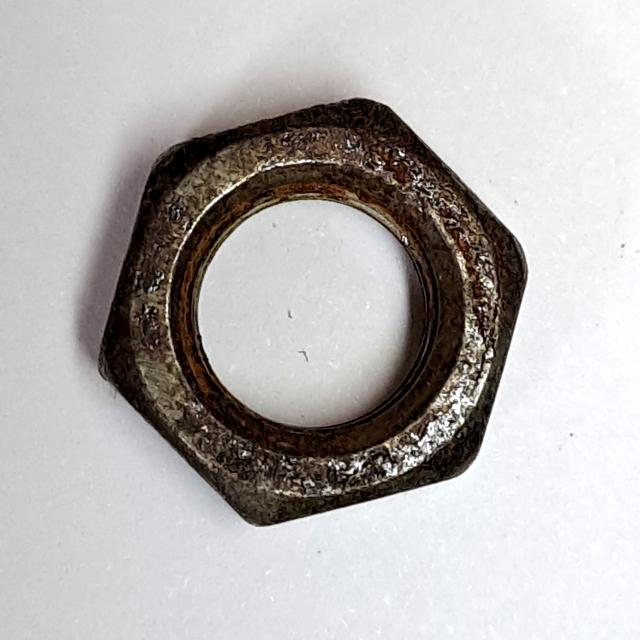Rust: (83, 85, 534, 544)
